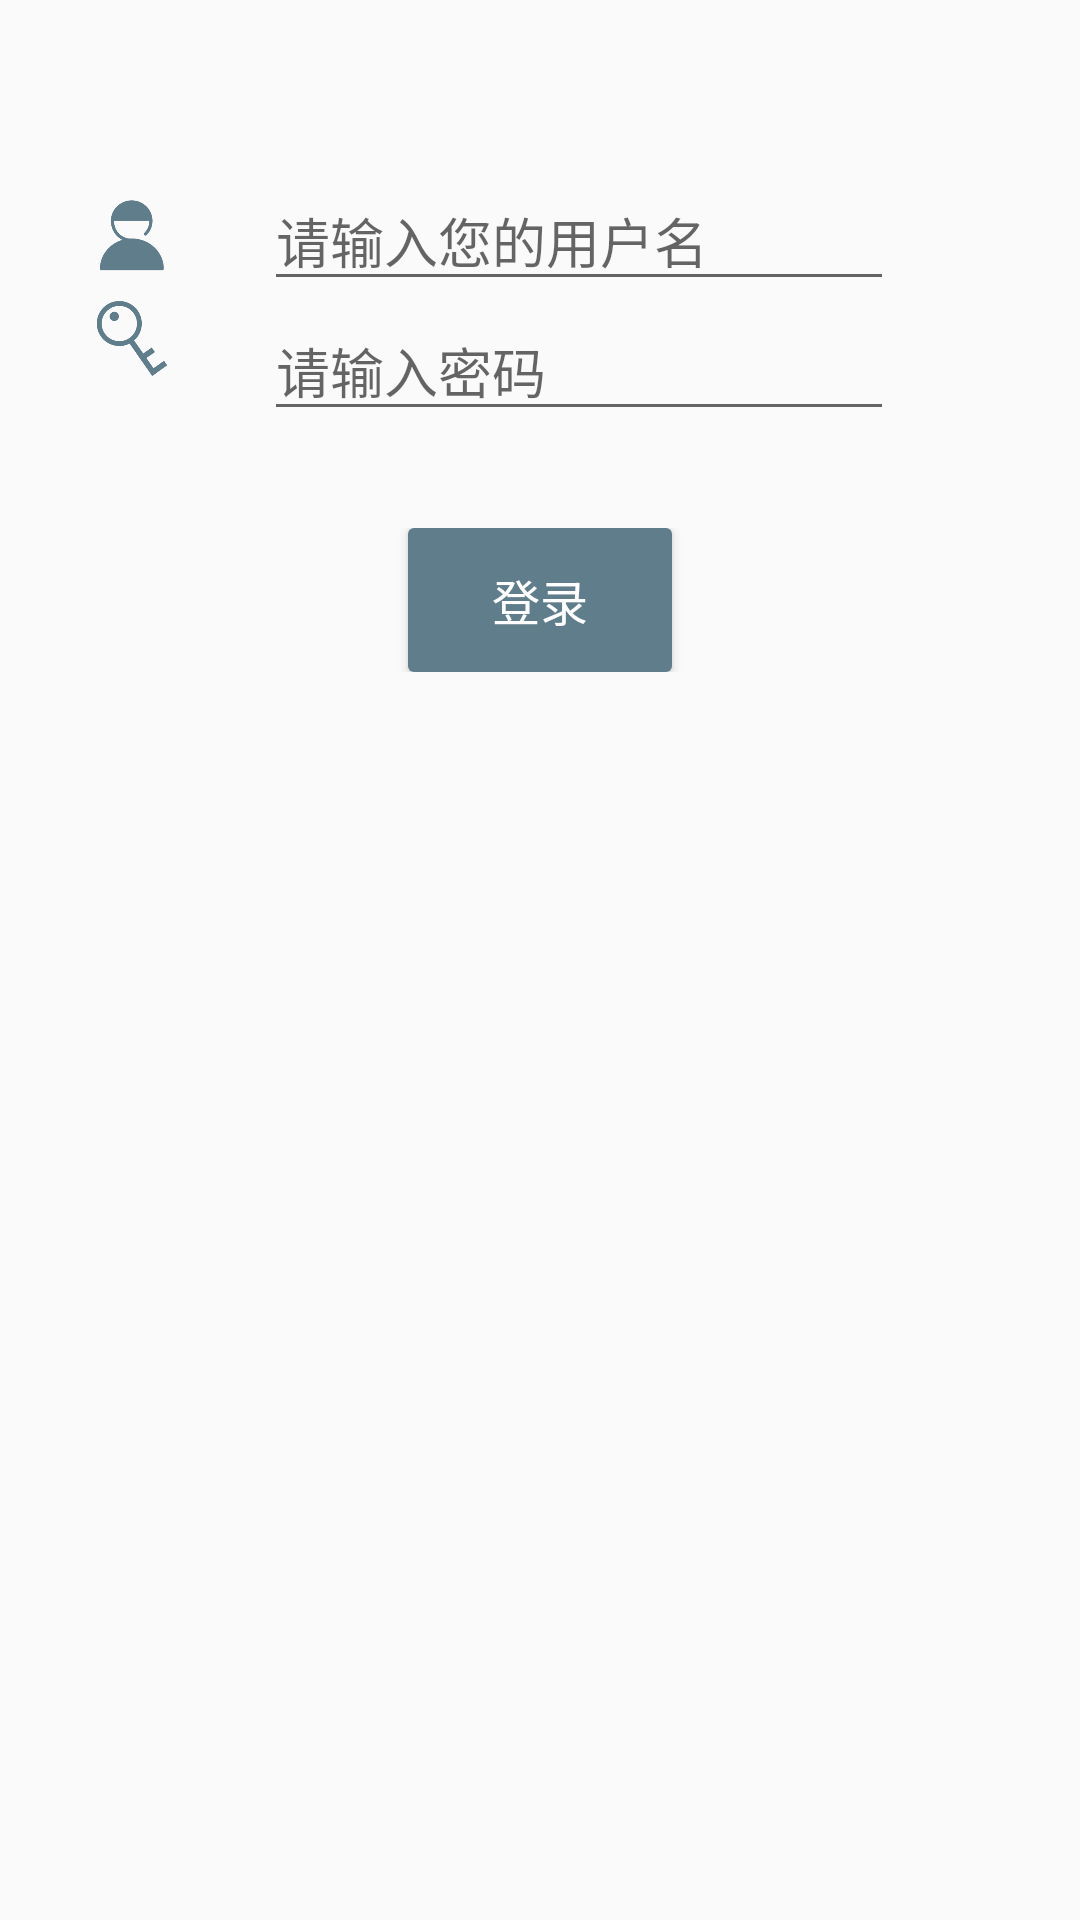

Named icons in this screenshot (1080px×1920px) and their bounding boxes, (x1,y1,x2,y2):
password: (97,301,167,376)
user: (100,200,164,270)
